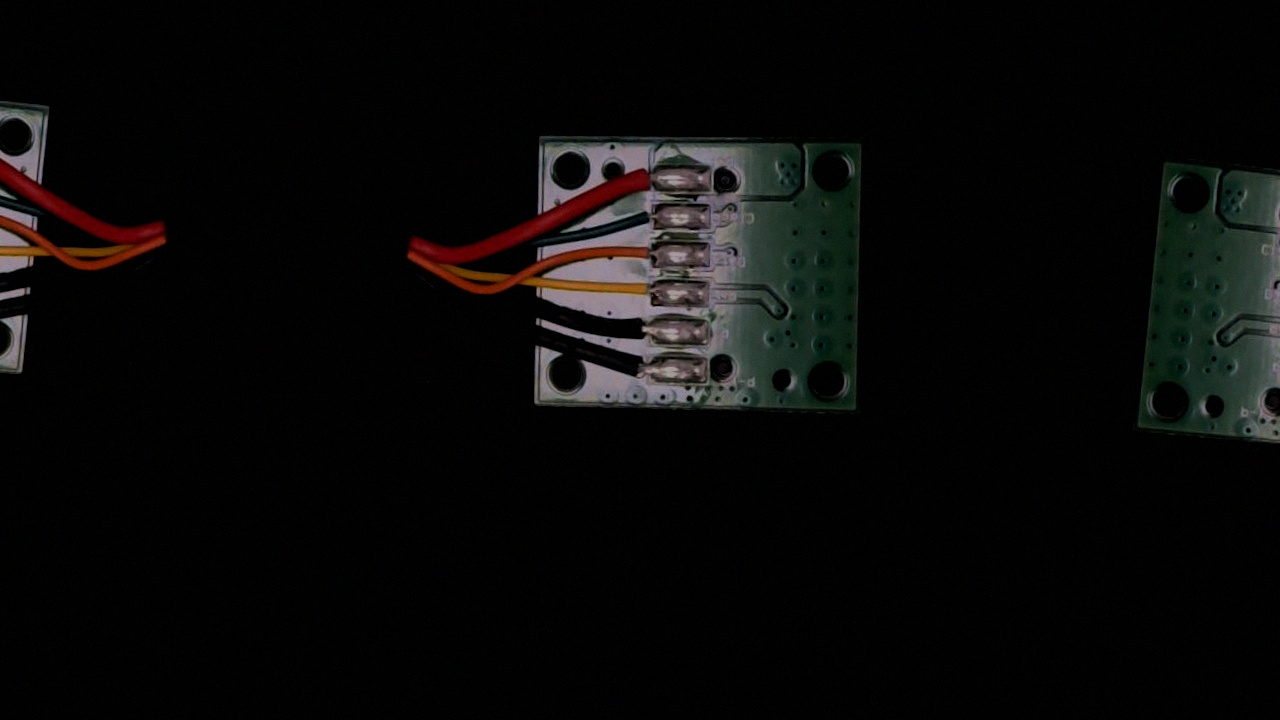Black: (596, 309, 671, 348)
Black1: (603, 352, 672, 389)
Green: (615, 198, 676, 232)
Orange: (600, 236, 670, 271)
Red: (602, 158, 674, 197)
Yellow: (595, 273, 671, 312)
